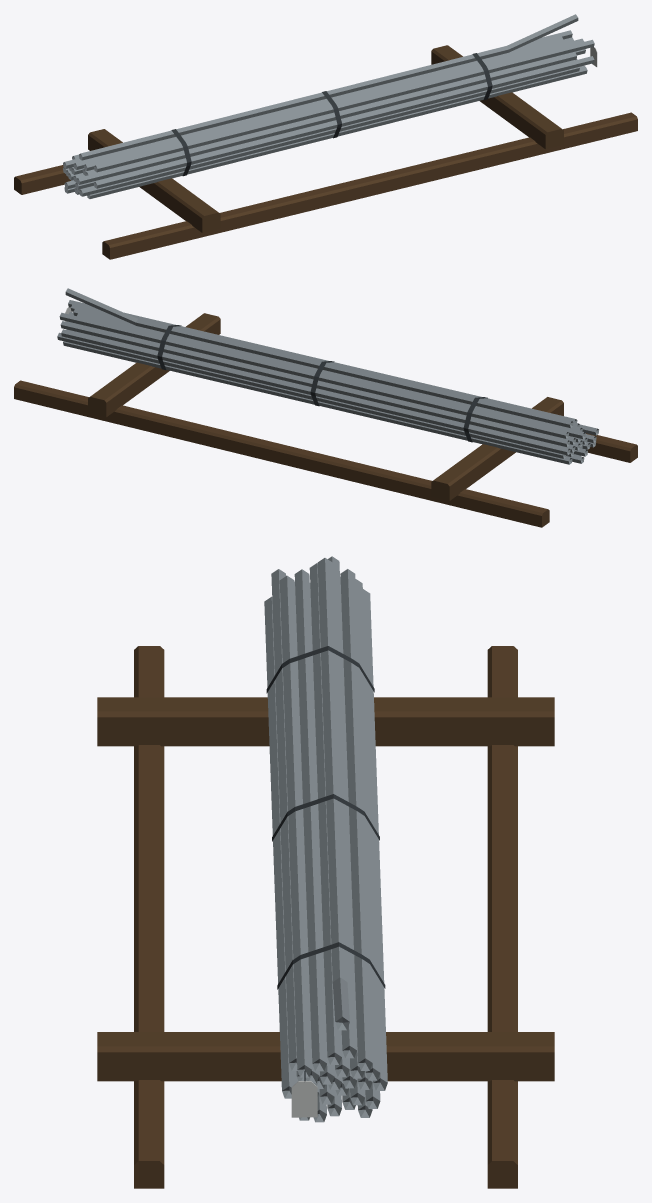
Rendered from scaffold-material-stack-836dd2.glb.
The picture shows the model from 3 angles, top to bottom: view 1: azimuth 30°, elevation 25°; view 2: azimuth 150°, elevation 25°; view 3: azimuth 270°, elevation 25°; orthographic projection. The views are drawn at different scales.
Parts seen in each view (by area): view 1: stack, bearers; view 2: stack, bearers; view 3: bearers, stack, tag-card.
Part boxes in pixels (x1=…): stack: x1=63, y1=14, x2=594, y2=198; bearers: x1=14, y1=45, x2=637, y2=259; stack: x1=57, y1=288, x2=598, y2=464; bearers: x1=14, y1=313, x2=637, y2=527; bearers: x1=97, y1=646, x2=554, y2=1188; stack: x1=264, y1=556, x2=387, y2=1122; tag-card: x1=291, y1=1070, x2=317, y2=1117.
Bounding box in the file's own units: 4 × 0.5874 × 1.5.
